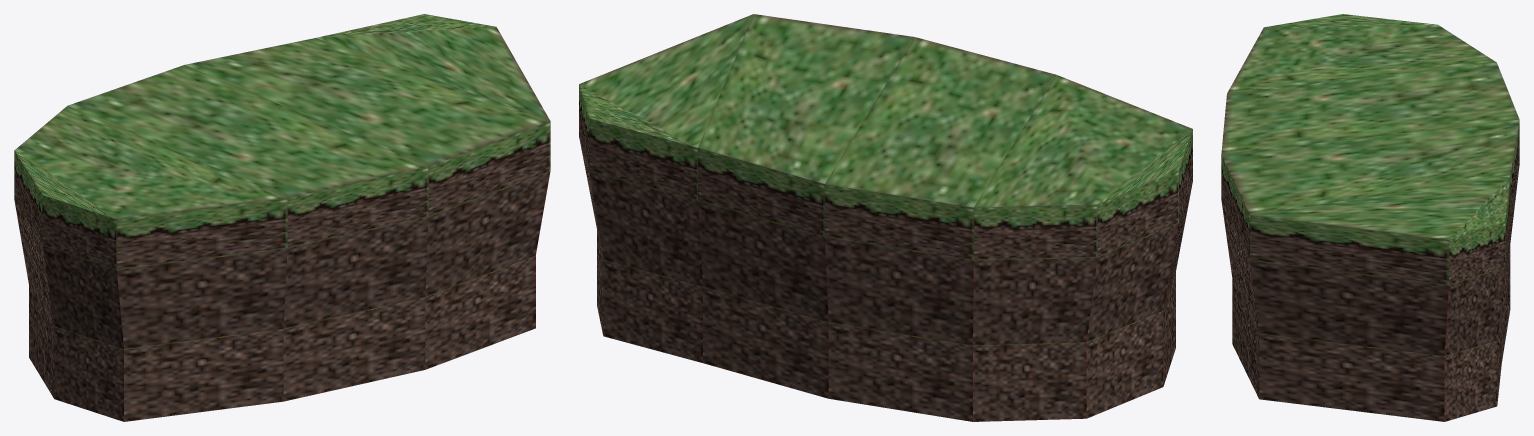
File: mountain.gltf
3 views of the same model, side by side, from view 1: azimuth 30°, elevation 25°; view 2: azimuth 150°, elevation 25°; view 3: azimuth 270°, elevation 25° (orthographic). The views are drawn at different scales.
Parts seen in each view (by area): view 1: Mountain1; view 2: Mountain1; view 3: Mountain1.
Boxes of the visible parts, x1,y1,x2,y2 form: Mountain1: (14, 14, 550, 421); Mountain1: (579, 14, 1192, 421); Mountain1: (1221, 14, 1519, 421).
Bounding box in the file's own units: 14.86 × 5.78 × 8.29.
1 material, 1 textured.
